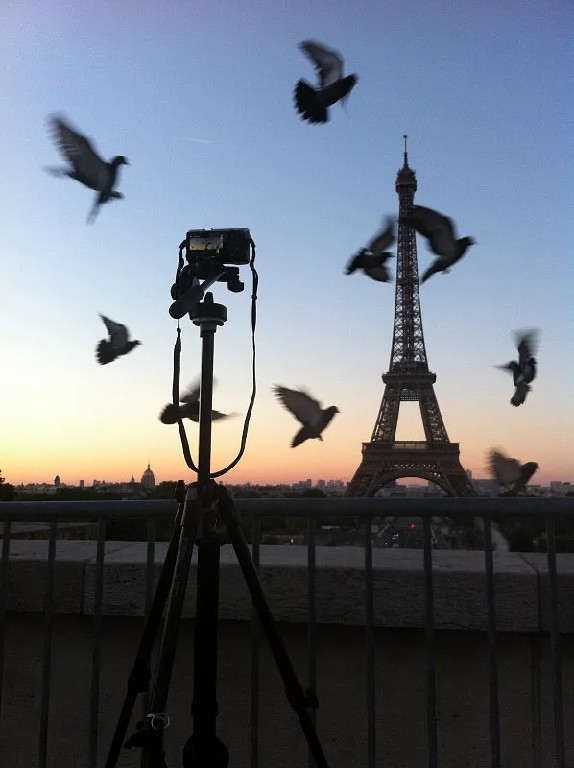Eiffel: (344, 135, 477, 499)
